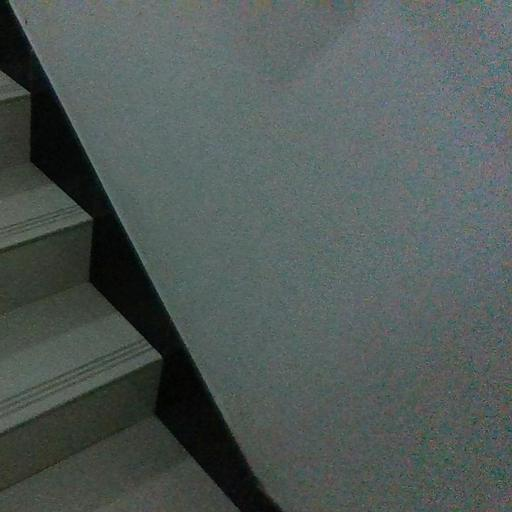Stairs: (0, 73, 238, 512)
